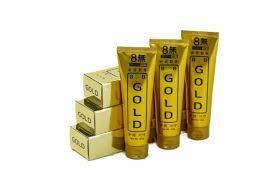toothpaste: (117, 39, 157, 162), (145, 36, 187, 147), (182, 28, 217, 141)
